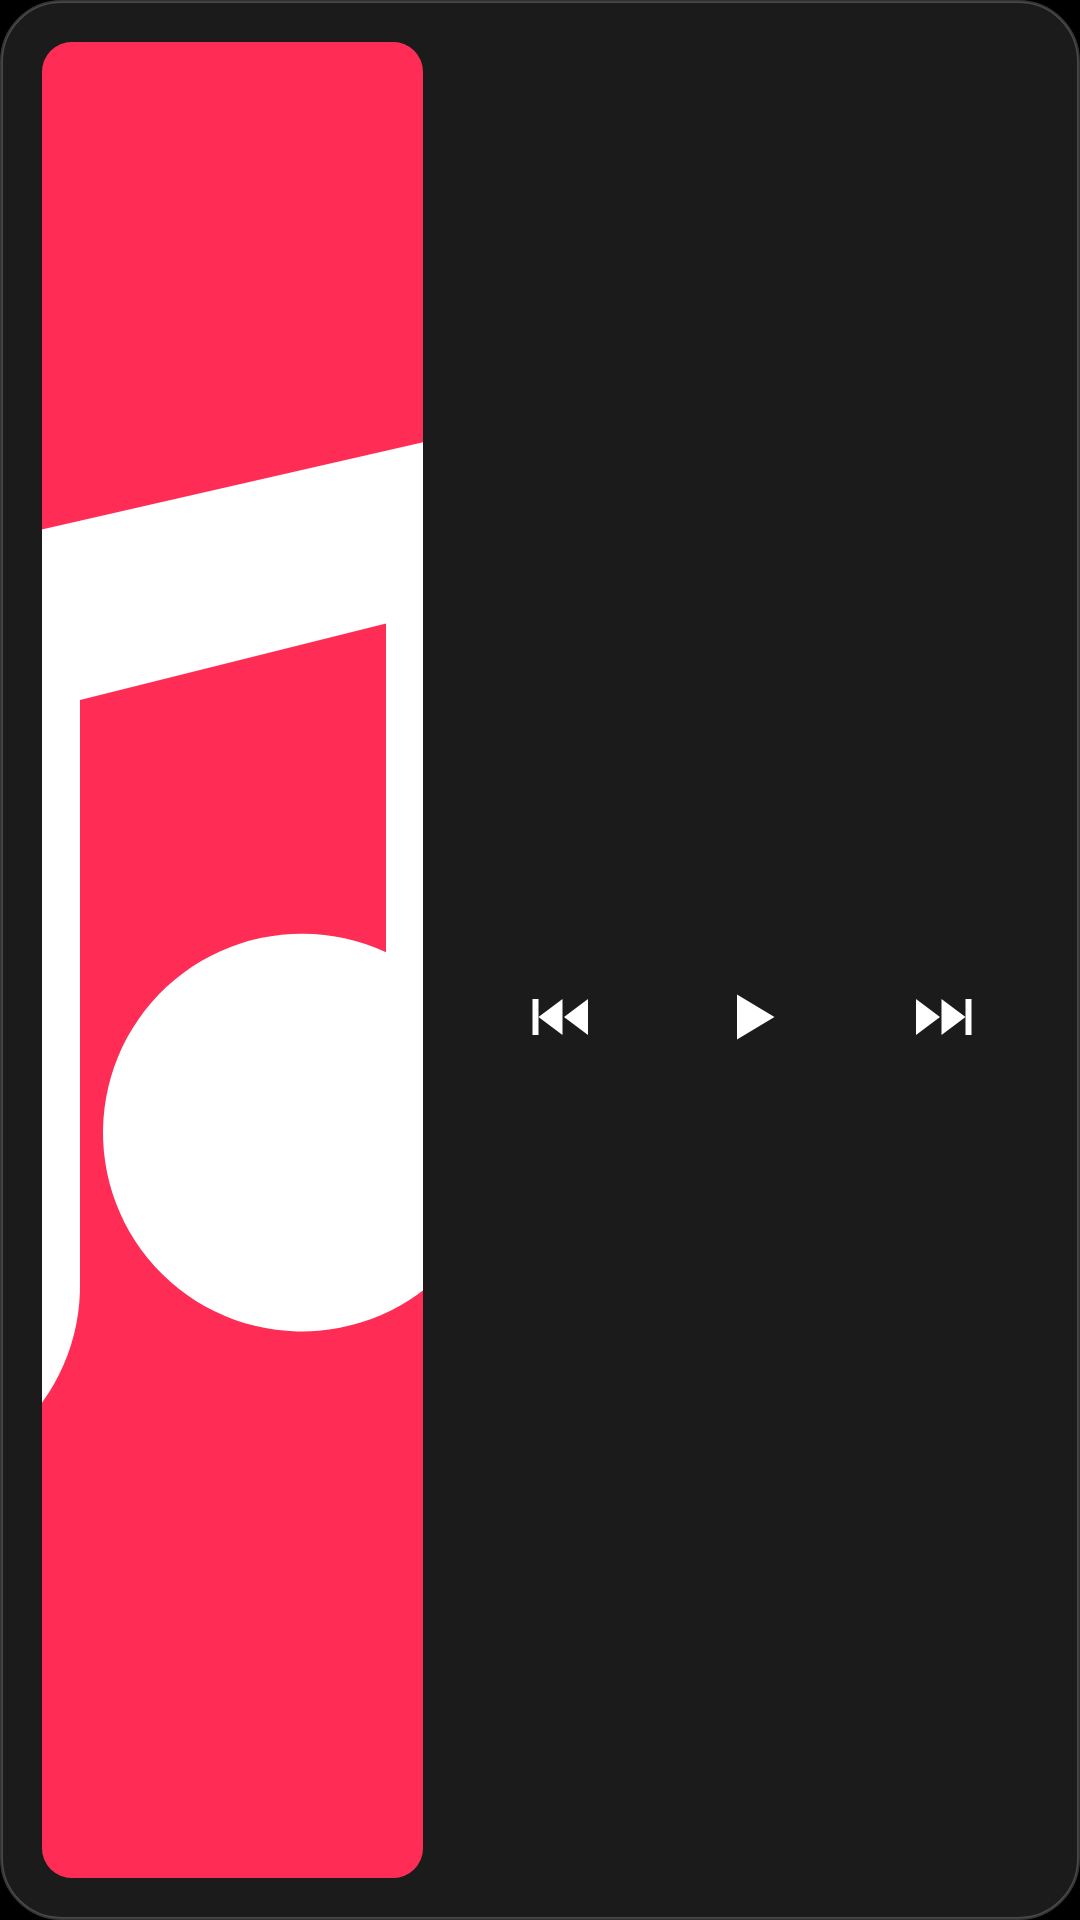

Where icons sit on this 1080px×1920px app screen, as (x1, y1, x2, y2):
다음 곡: (916, 999, 972, 1035)
이전 곡: (532, 999, 588, 1035)
재생/일시정지: (737, 994, 774, 1040)
